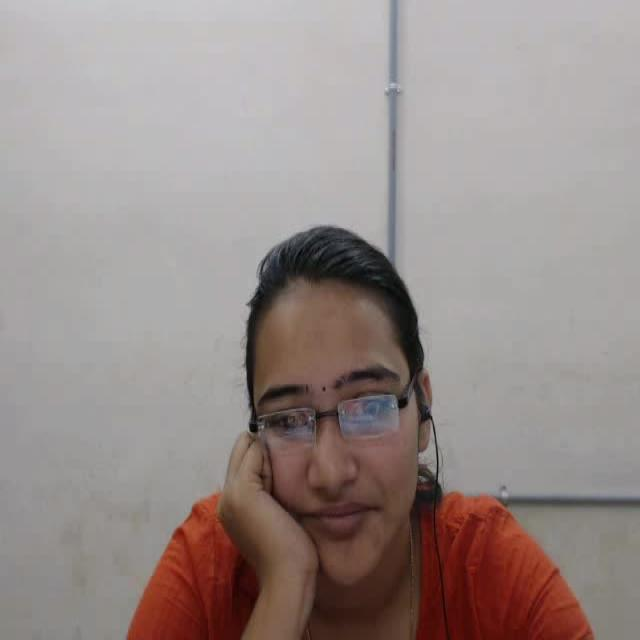Bored: (187, 170, 566, 640)
